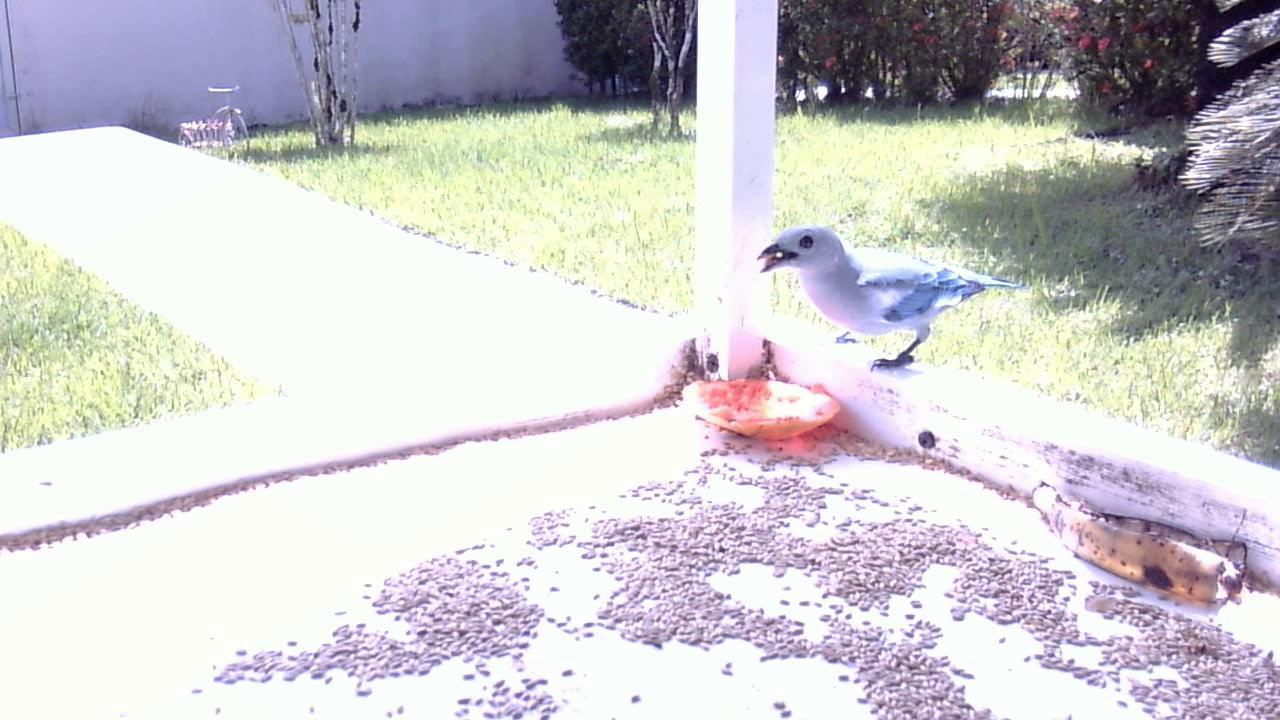sanhaco_da_amazonia: (750, 217, 1023, 382)
